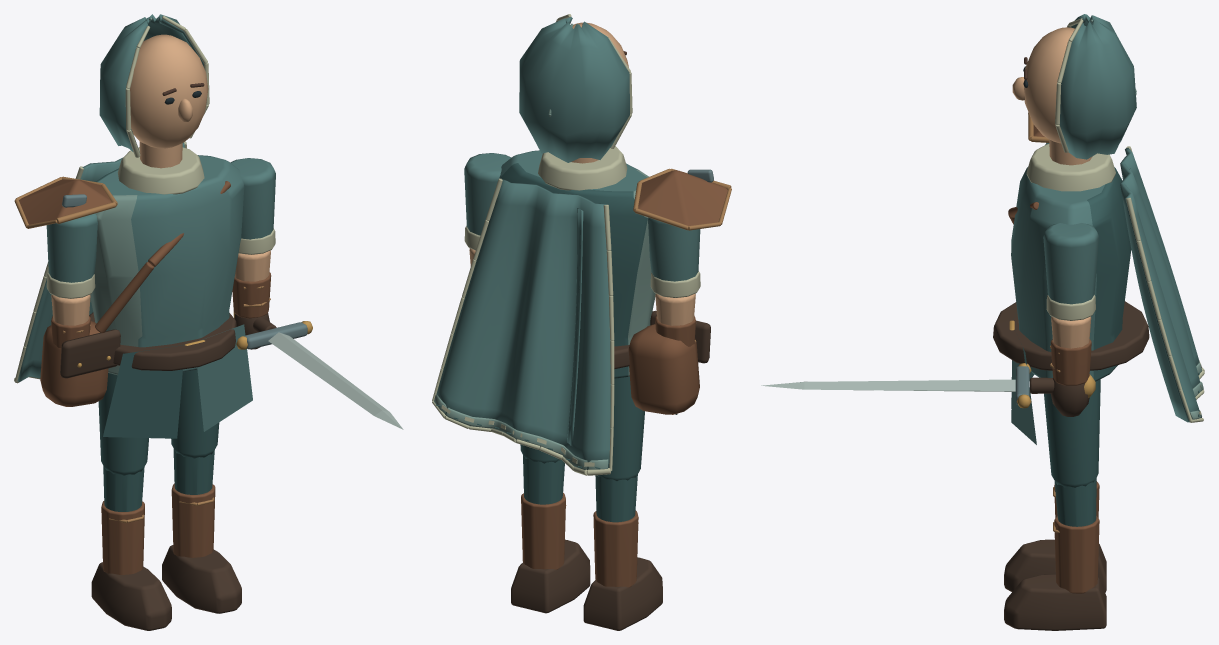
File: hero-standard.glb
3 renders of one model, left to right at view 1: azimuth 30°, elevation 25°; view 2: azimuth 150°, elevation 25°; view 3: azimuth 270°, elevation 25°, orthographic. The views are drawn at different scales.
Visible parts, largest first — view 1: body_linen, body_skin, body_darkLeather, overlapping tunic skirt, body_wornLeather, shaped leather boot, body_linenEdge, shaped leather boot.001, upper linen sleeve, soft boot shaft.001, soft boot shaft, upper linen sleeve.001 (+16 smaller); view 2: linen cape folds, body_linen, body_wornLeather, molded leather shoulder, shaped leather boot, shaped leather boot.001, cape_linenEdge, body_linenEdge, soft boot shaft, soft boot shaft.001, wool trouser thigh, upper linen sleeve (+9 smaller); view 3: body_linen, linen cape folds, shaped leather boot.001, wool trouser thigh.001, body_skin, upper linen sleeve.001, body_darkLeather, body_linenEdge, soft boot shaft.001, tempered diamond-section blade, shaped leather boot, wool calf.001 (+5 smaller).
Boxes of the visible parts, x1=… form: body_linen: x1=90, y1=14, x2=252, y2=431; body_skin: x1=130, y1=34, x2=208, y2=168; body_darkLeather: x1=60, y1=312, x2=236, y2=378; overlapping tunic skirt: x1=103, y1=345, x2=184, y2=438; body_wornLeather: x1=40, y1=181, x2=230, y2=406; shaped leather boot: x1=91, y1=562, x2=171, y2=630; body_linenEdge: x1=117, y1=15, x2=209, y2=194; shaped leather boot.001: x1=162, y1=545, x2=241, y2=613; upper linen sleeve: x1=46, y1=213, x2=97, y2=282; soft boot shaft.001: x1=171, y1=483, x2=215, y2=557; soft boot shaft: x1=101, y1=501, x2=144, y2=574; upper linen sleeve.001: x1=230, y1=158, x2=275, y2=239; linen cape folds: x1=434, y1=179, x2=610, y2=469; body_linen: x1=499, y1=17, x2=655, y2=378; body_wornLeather: x1=628, y1=324, x2=699, y2=414; molded leather shoulder: x1=638, y1=170, x2=727, y2=225; shaped leather boot: x1=583, y1=557, x2=662, y2=630; shaped leather boot.001: x1=511, y1=539, x2=590, y2=613; cape_linenEdge: x1=432, y1=178, x2=614, y2=475; body_linenEdge: x1=538, y1=14, x2=632, y2=190; soft boot shaft: x1=593, y1=510, x2=638, y2=587; soft boot shaft.001: x1=521, y1=492, x2=565, y2=569; wool trouser thigh: x1=597, y1=376, x2=644, y2=480; upper linen sleeve: x1=648, y1=217, x2=700, y2=281; body_linen: x1=1011, y1=14, x2=1136, y2=444; linen cape folds: x1=1120, y1=147, x2=1203, y2=422; shaped leather boot.001: x1=1004, y1=574, x2=1106, y2=630; wool trouser thigh.001: x1=1044, y1=379, x2=1100, y2=487; body_skin: x1=1012, y1=27, x2=1092, y2=165; upper linen sleeve.001: x1=1043, y1=223, x2=1098, y2=304; body_darkLeather: x1=993, y1=301, x2=1149, y2=370; body_linenEdge: x1=1026, y1=18, x2=1115, y2=191; soft boot shaft.001: x1=1054, y1=515, x2=1099, y2=593; tempered diamond-section blade: x1=761, y1=379, x2=1015, y2=391; shaped leather boot: x1=1004, y1=539, x2=1106, y2=592; wool calf.001: x1=1054, y1=478, x2=1096, y2=526.
Size of the model in its own units: 1.09 by 2.27 by 1.56.
